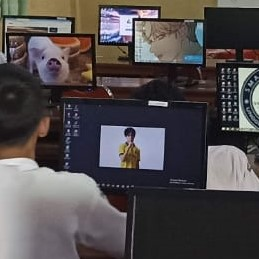monitor: (59, 97, 209, 193), (124, 187, 258, 255), (6, 33, 97, 92), (131, 18, 206, 68), (216, 62, 259, 137), (97, 5, 161, 47), (204, 7, 259, 50)
